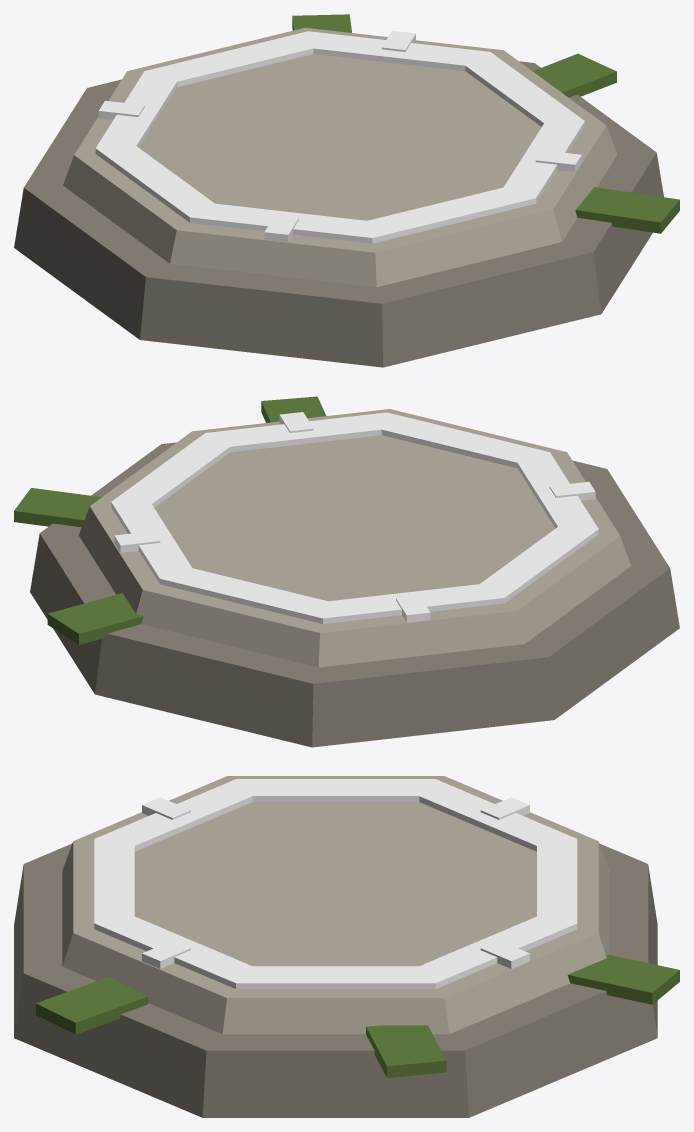
File: BuddySockel.fbx
The picture shows the model from 3 angles, top to bottom: view 1: azimuth 30°, elevation 25°; view 2: azimuth 150°, elevation 25°; view 3: azimuth 270°, elevation 25°; orthographic projection. The views are drawn at different scales.
Visible parts, largest first — view 1: BuddySockel; view 2: BuddySockel; view 3: BuddySockel.
Boxes of the visible parts, <box> form: BuddySockel: <box>14,14,679,367</box>; BuddySockel: <box>14,396,679,747</box>; BuddySockel: <box>14,776,679,1117</box>.
Bounding box in the file's own units: 1.58 × 0.26 × 1.53.
